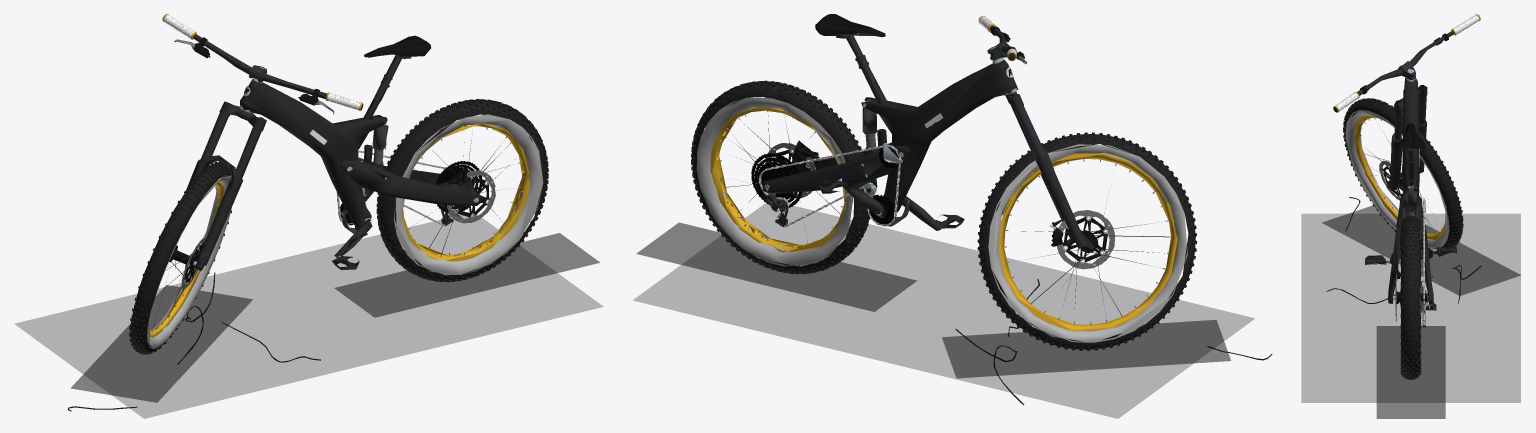
Rendered from carbon-frame-bike-runtime.glb.
3 renders of one model, left to right at view 1: azimuth 30°, elevation 25°; view 2: azimuth 150°, elevation 25°; view 3: azimuth 270°, elevation 25°, orthographic. The views are drawn at different scales.
Visible parts, largest first — view 1: object 208, object 207, Shape_10504, object 92, Shape_6556, Shape_10432, Shape_13870, object 90, Shape_13751, object 205, object 93, Shape_9656 (+2 smaller); view 2: object 208, object 207, Shape_6556, Shape_10504, object 92, Shape_9656, Shape_10432, object 90, Shape_13870, object 201, object 205, Shape_6441 1 (+3 smaller); view 3: object 208, object 207, Shape_6556, Shape_10504, object 92, Shape_9656, Shape_13870, Shape_13751, object 93, object 205, object 90, object 97 (+5 smaller).
Boxes of the visible parts, bbox=[...] form: object 208: bbox=[15, 214, 603, 418]; object 207: bbox=[71, 233, 599, 402]; Shape_10504: bbox=[376, 99, 548, 282]; object 92: bbox=[240, 79, 482, 228]; Shape_6556: bbox=[129, 161, 234, 354]; Shape_10432: bbox=[395, 123, 529, 261]; Shape_13870: bbox=[186, 155, 242, 270]; object 90: bbox=[334, 74, 467, 257]; Shape_13751: bbox=[193, 34, 326, 98]; object 205: bbox=[364, 35, 431, 57]; object 93: bbox=[358, 54, 446, 208]; Shape_9656: bbox=[149, 181, 224, 337]; object 208: bbox=[633, 203, 1254, 418]; object 207: bbox=[636, 222, 1230, 378]; Shape_6556: bbox=[977, 132, 1197, 351]; Shape_10504: bbox=[691, 80, 870, 274]; object 92: bbox=[762, 60, 1017, 212]; Shape_9656: bbox=[998, 153, 1177, 331]; Shape_10432: bbox=[710, 107, 853, 252]; object 90: bbox=[763, 54, 942, 230]; Shape_13870: bbox=[1035, 146, 1094, 249]; object 201: bbox=[758, 145, 900, 227]; object 205: bbox=[815, 14, 885, 37]; Shape_6441 1: bbox=[1057, 210, 1115, 269]; object 208: bbox=[1301, 214, 1520, 402]; object 207: bbox=[1322, 205, 1520, 418]; Shape_6556: bbox=[1343, 98, 1463, 253]; Shape_10504: bbox=[1400, 215, 1421, 379]; object 92: bbox=[1388, 77, 1433, 304]; Shape_9656: bbox=[1354, 115, 1446, 240]; Shape_13870: bbox=[1387, 120, 1426, 190]; Shape_13751: bbox=[1357, 30, 1454, 95]; object 93: bbox=[1401, 148, 1425, 321]; object 205: bbox=[1395, 123, 1426, 149]; object 90: bbox=[1389, 153, 1436, 327]; object 97: bbox=[1365, 244, 1456, 322].
Bounding box in the file's own units: 2.21 × 1.33 × 0.9163.
